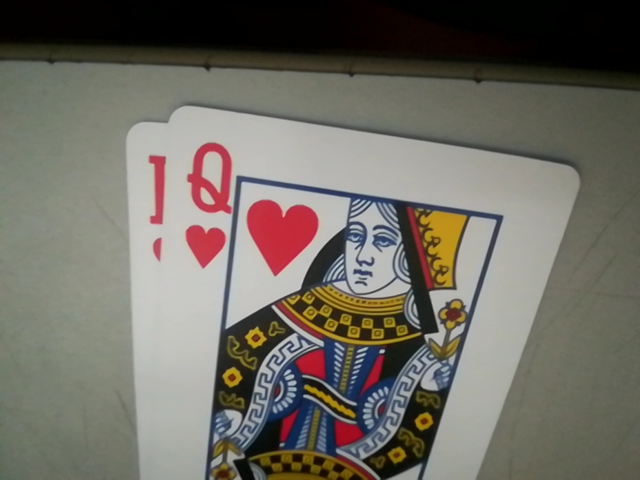hx q: (176, 144, 231, 270)
